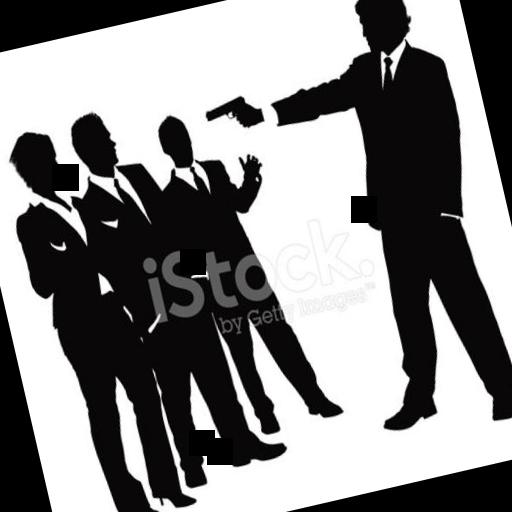Handgun: (198, 91, 254, 137)
